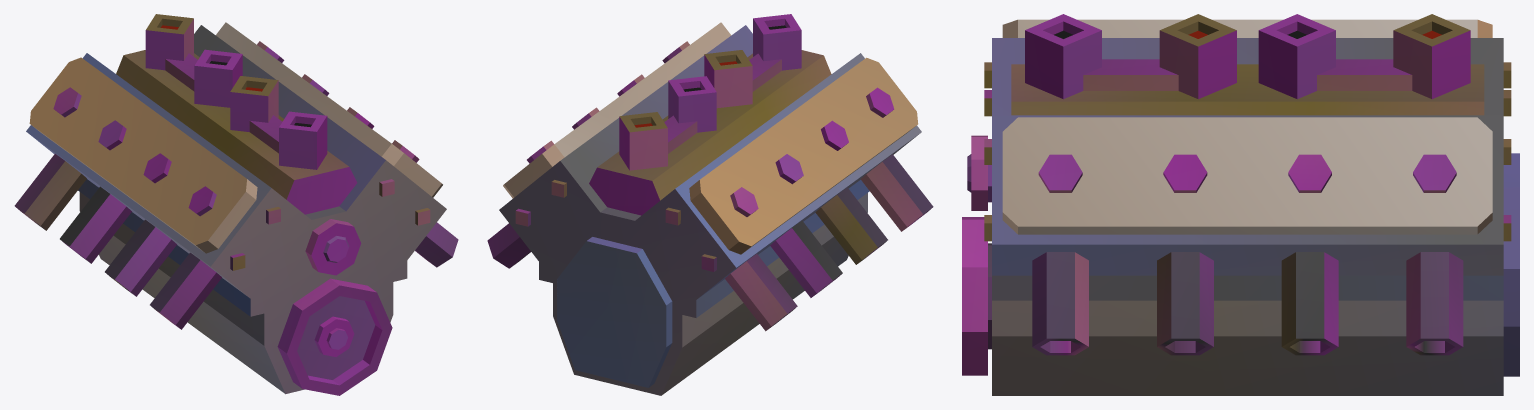
Rendered from EngineLvl1.fbx.
3 renders of one model, left to right at view 1: azimuth 30°, elevation 25°; view 2: azimuth 150°, elevation 25°; view 3: azimuth 270°, elevation 25°, orthographic. The views are drawn at different scales.
Parts seen in each view (by area): view 1: engine_lvl1; view 2: engine_lvl1; view 3: engine_lvl1.
Boxes of the visible parts, x1=… form: engine_lvl1: x1=14, y1=14, x2=458, y2=395; engine_lvl1: x1=487, y1=14, x2=933, y2=395; engine_lvl1: x1=962, y1=14, x2=1519, y2=395.
Bounding box in the file's own units: 1.38 × 1.09 × 1.61.
